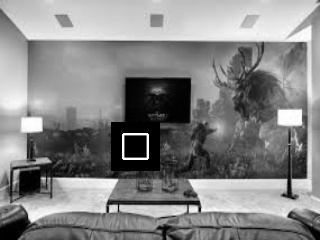square: (111, 122, 160, 171)
